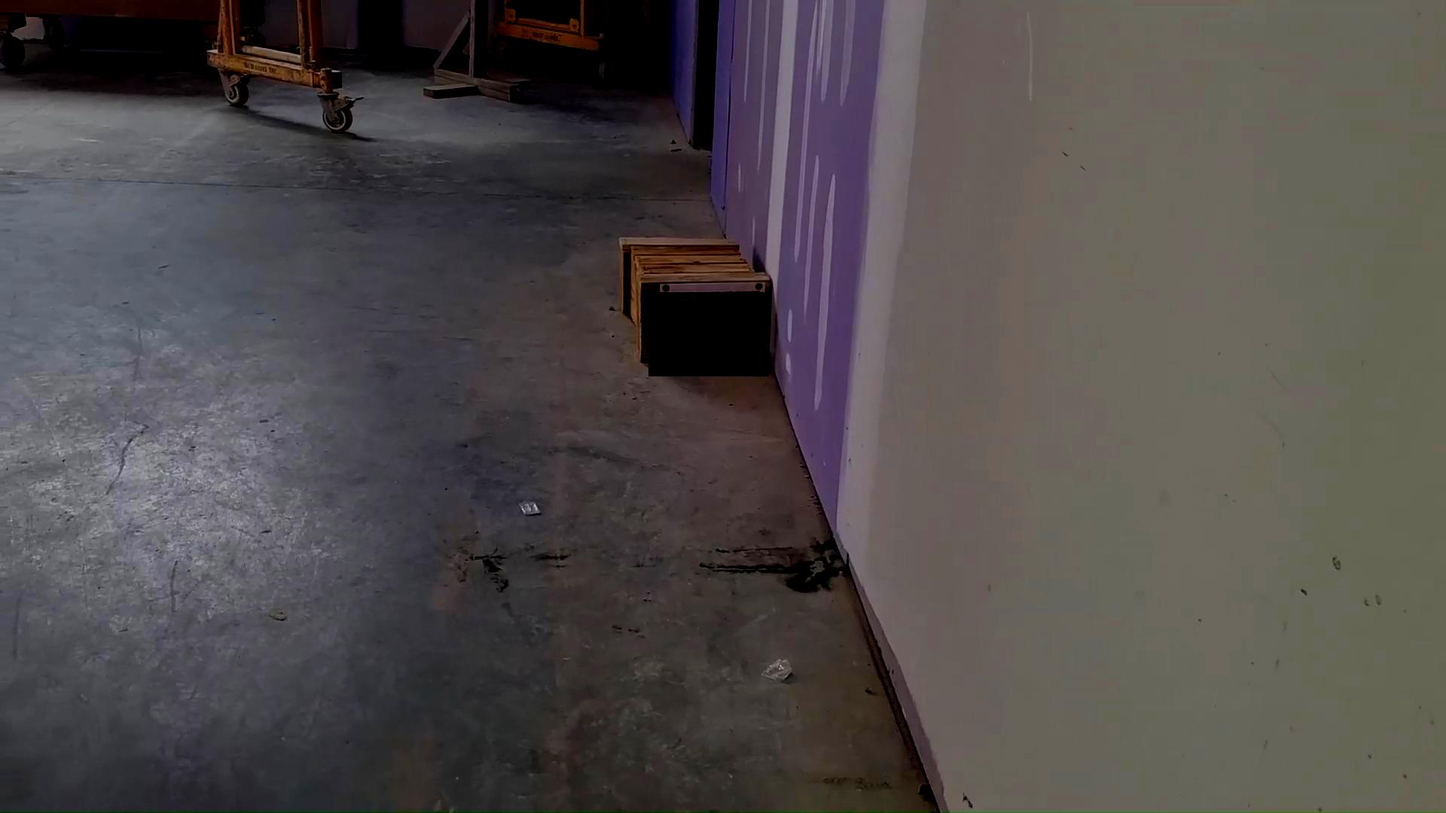exit_sign: (648, 292, 769, 376)
